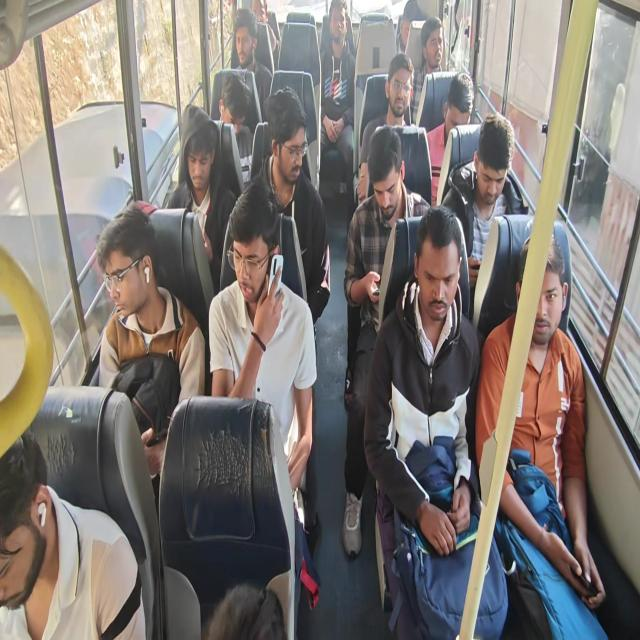person: (363, 204, 509, 638), (475, 232, 608, 636), (341, 125, 432, 557), (208, 179, 318, 510), (96, 206, 206, 486), (0, 430, 146, 639), (250, 85, 330, 326), (441, 112, 515, 289), (166, 116, 236, 290), (356, 52, 416, 204), (319, 0, 355, 196), (426, 71, 474, 204), (230, 8, 273, 124), (205, 581, 287, 639), (216, 73, 253, 179), (411, 16, 445, 120), (250, 0, 280, 70)
